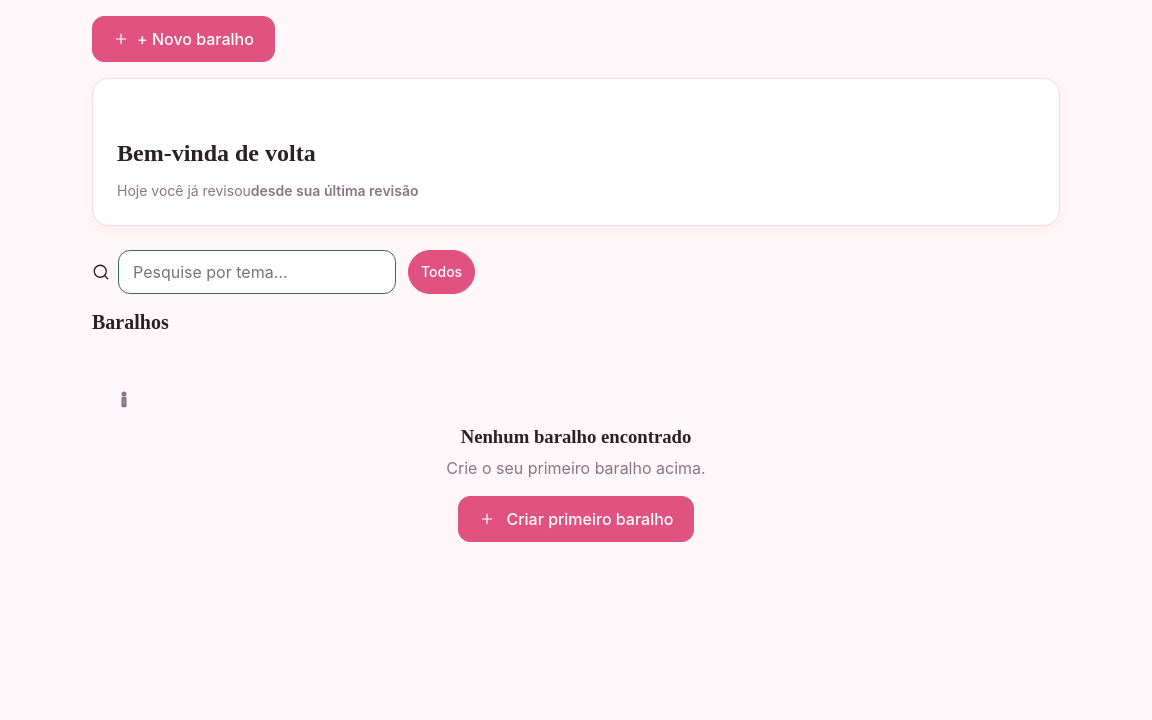
Test: Home › renders "+ Novo baralho" button that opens the create form
Expected: the text "Criar baralho" is not shown
Note: Clicar abre o formulário
Click the button "+ Novo baralho" at point(183, 39), box [92, 16, 275, 62]
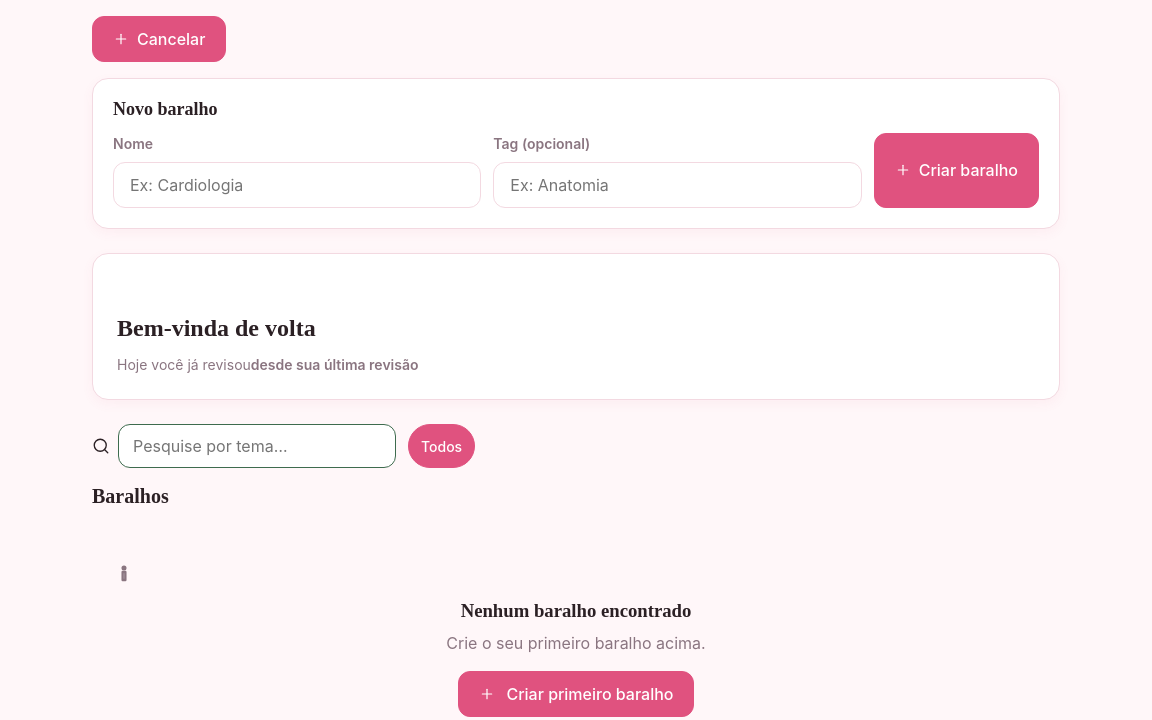
Now the button "Criar baralho" is shown, box [874, 133, 1039, 208]
